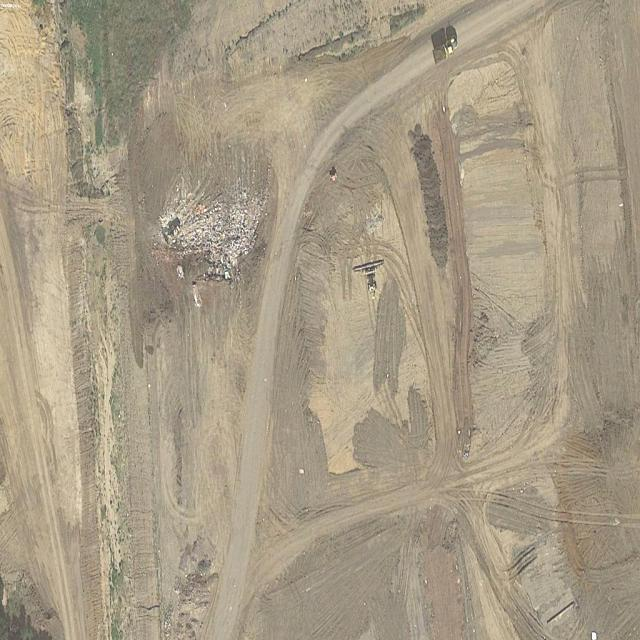dump_site: (154, 181, 267, 287)
